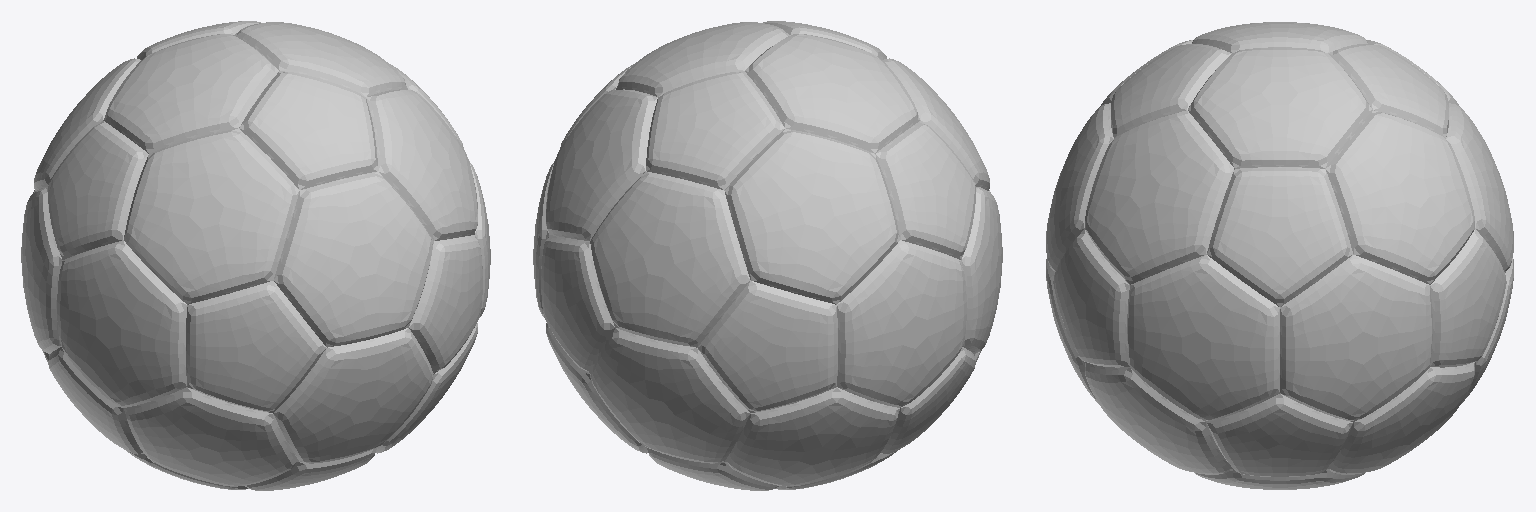
File: Bola Sepak.obj
The picture shows the model from 3 angles: view 1: azimuth 30°, elevation 25°; view 2: azimuth 150°, elevation 25°; view 3: azimuth 270°, elevation 25°; orthographic projection.
Parts seen in each view (by area): view 1: Hedra001; view 2: Hedra001; view 3: Hedra001.
Part boxes in pixels (left/top/right/bottom): Hedra001: left=21, top=21, right=490, bottom=490; Hedra001: left=533, top=21, right=1002, bottom=490; Hedra001: left=1046, top=22, right=1513, bottom=489.
Size of the model in its own units: 31.05 by 31.05 by 31.05.